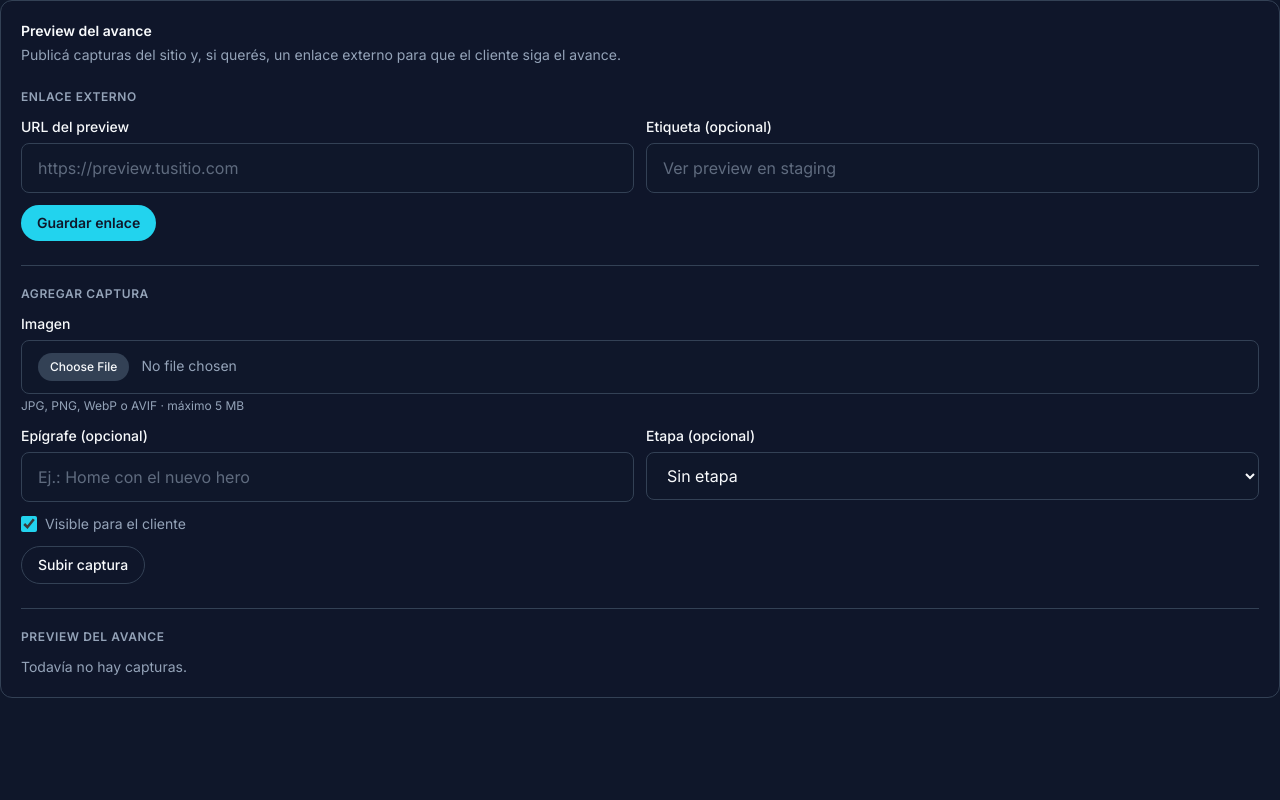
Test case: ProjectPreviewManager › muestra el error si el enlace no es HTTPS
This screenshot has width=1280, height=800.
In the field labelled "URL del preview": (328, 168) [21,143,634,193], type "http://staging.example.com"
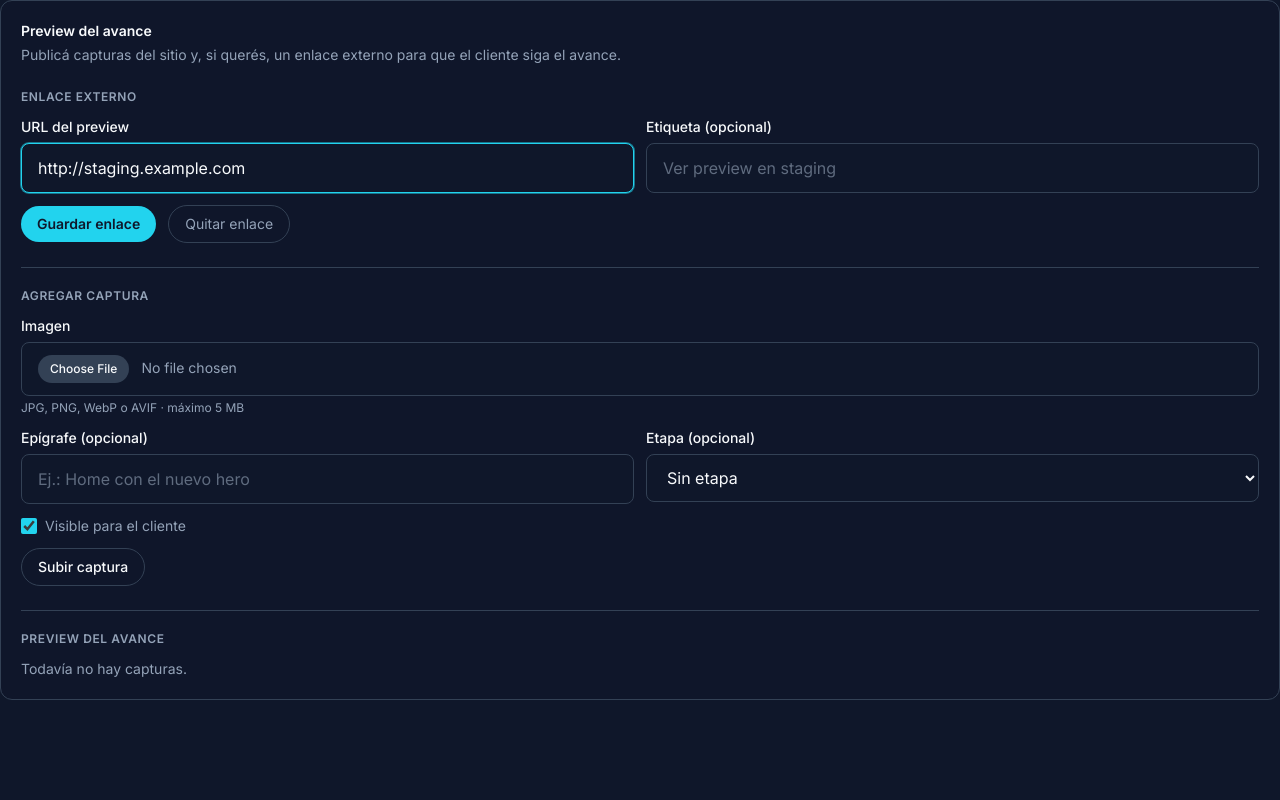
Click the button "Guardar enlace": (89, 224) [21,206,156,242]
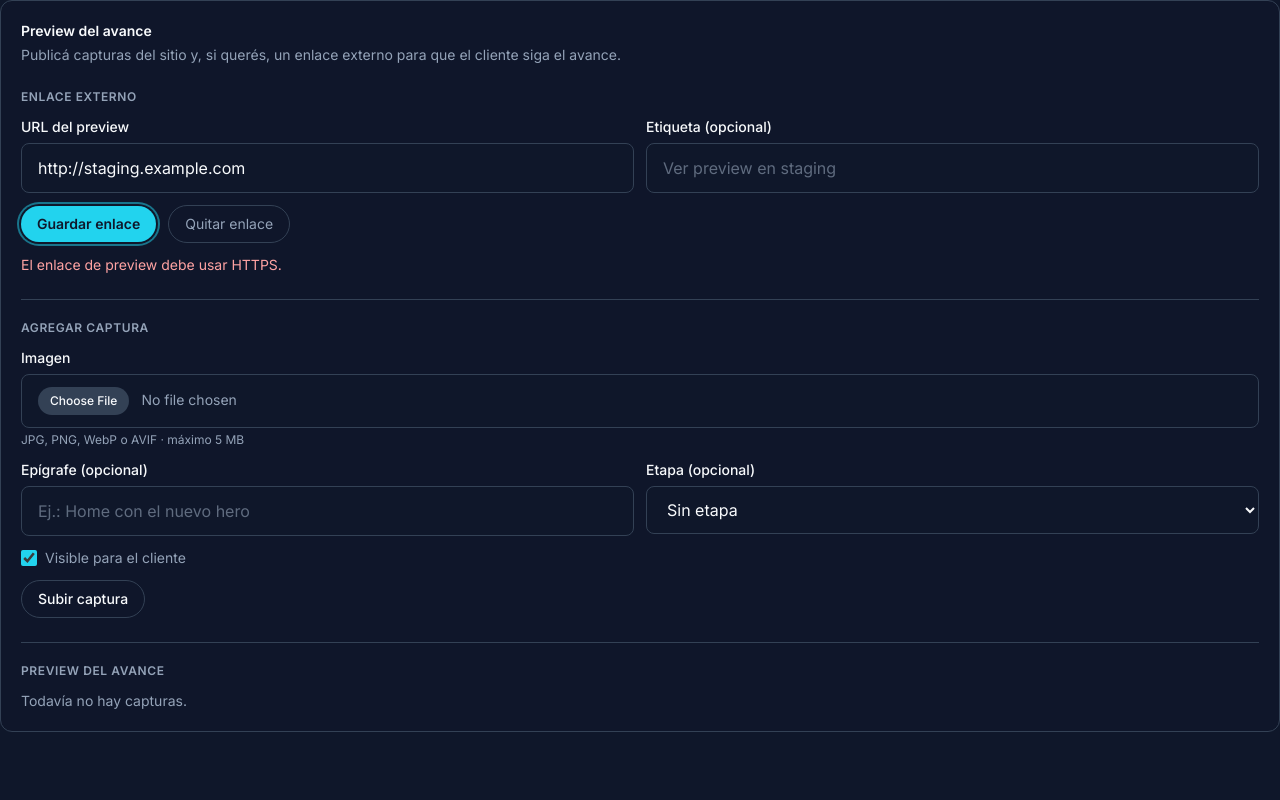
Result: the text "El enlace de preview debe usar HTTPS." is shown at [21,256,282,273]
